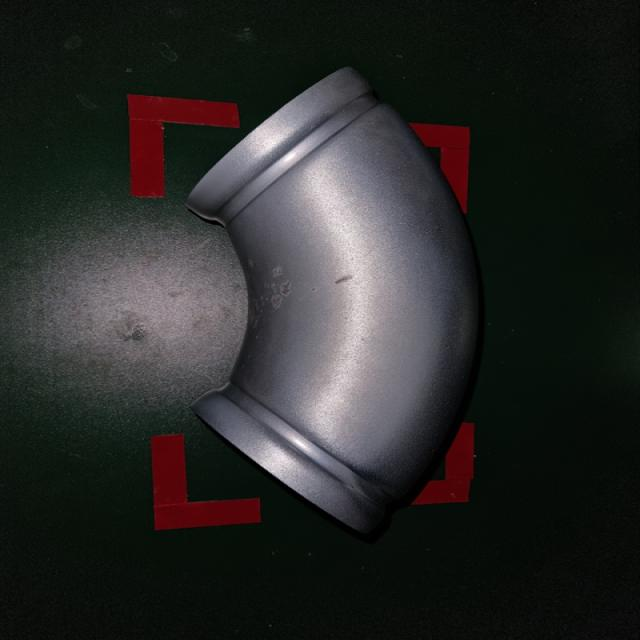Defect: (173, 54, 500, 536)
Hole: (239, 248, 370, 338)
